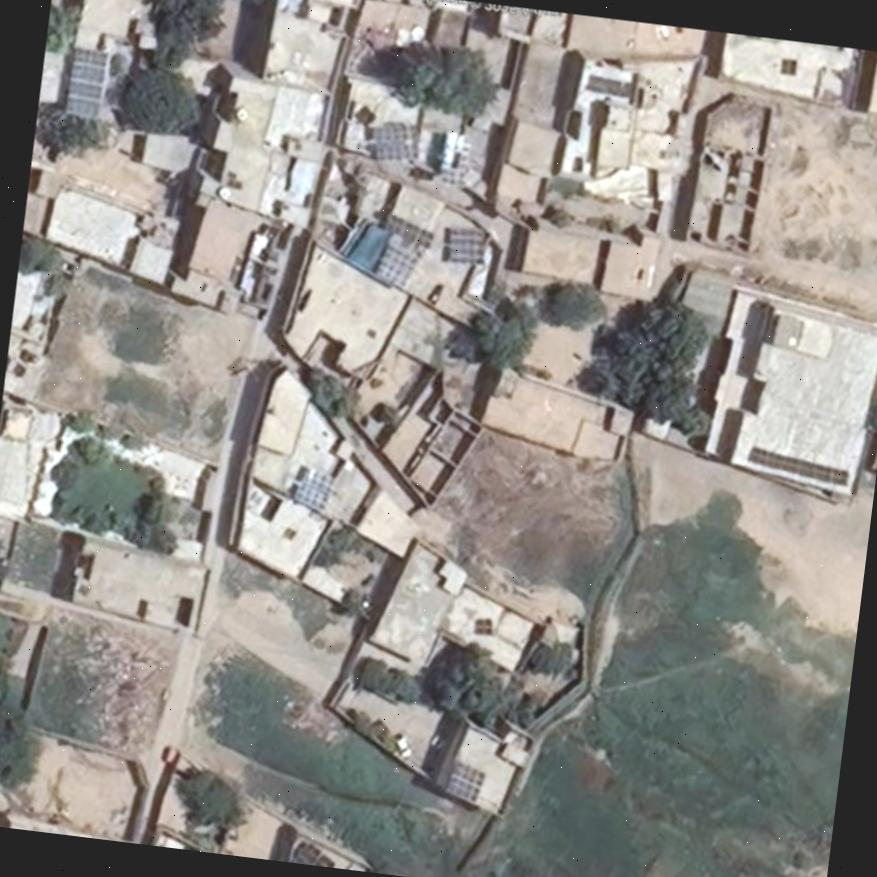Solarpanel: (746, 450, 848, 486), (66, 48, 108, 117), (448, 760, 487, 802), (293, 471, 332, 512), (375, 247, 414, 285), (374, 126, 412, 159), (448, 230, 483, 264), (293, 840, 333, 867)
